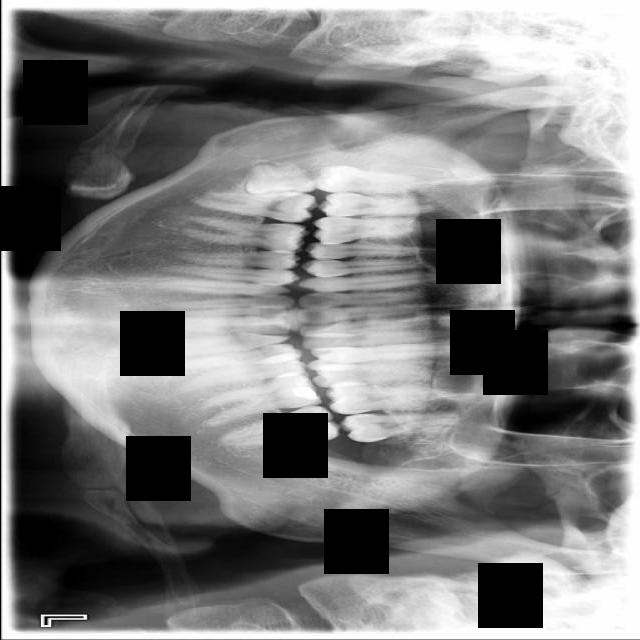3M ESPE Implant: (310, 166, 427, 193)
52: (265, 362, 323, 421)
73: (53, 592, 61, 596)
BioHorizons Implant: (338, 410, 464, 445)
Blue Sky Bio Implant: (215, 403, 341, 449)
Caries: (318, 192, 444, 217)
Implant: (190, 178, 320, 227)
Keystone Dental Implant: (244, 160, 315, 201)
